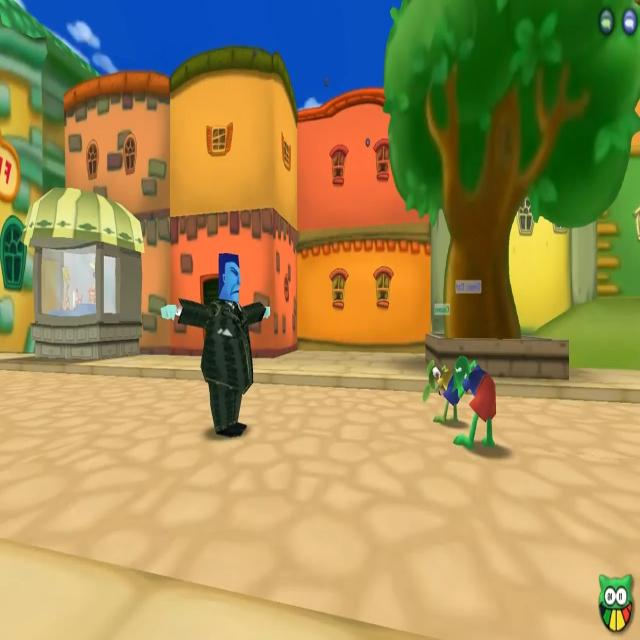shortchange: (196, 256, 268, 437)
